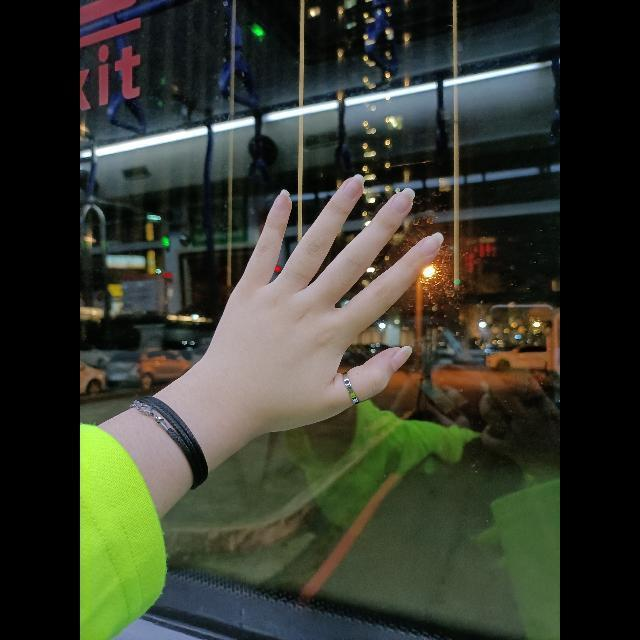bare_hand: (207, 173, 444, 433)
